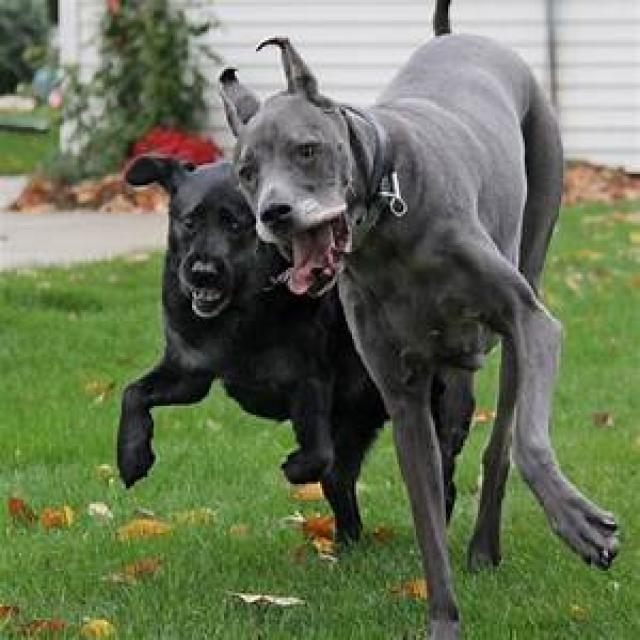dog: (218, 33, 621, 640), (115, 156, 390, 555)
